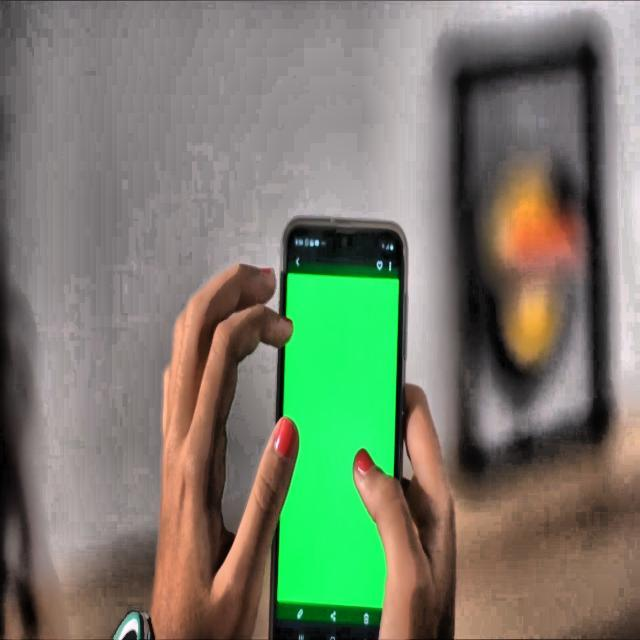Phone: (267, 212, 409, 640)
